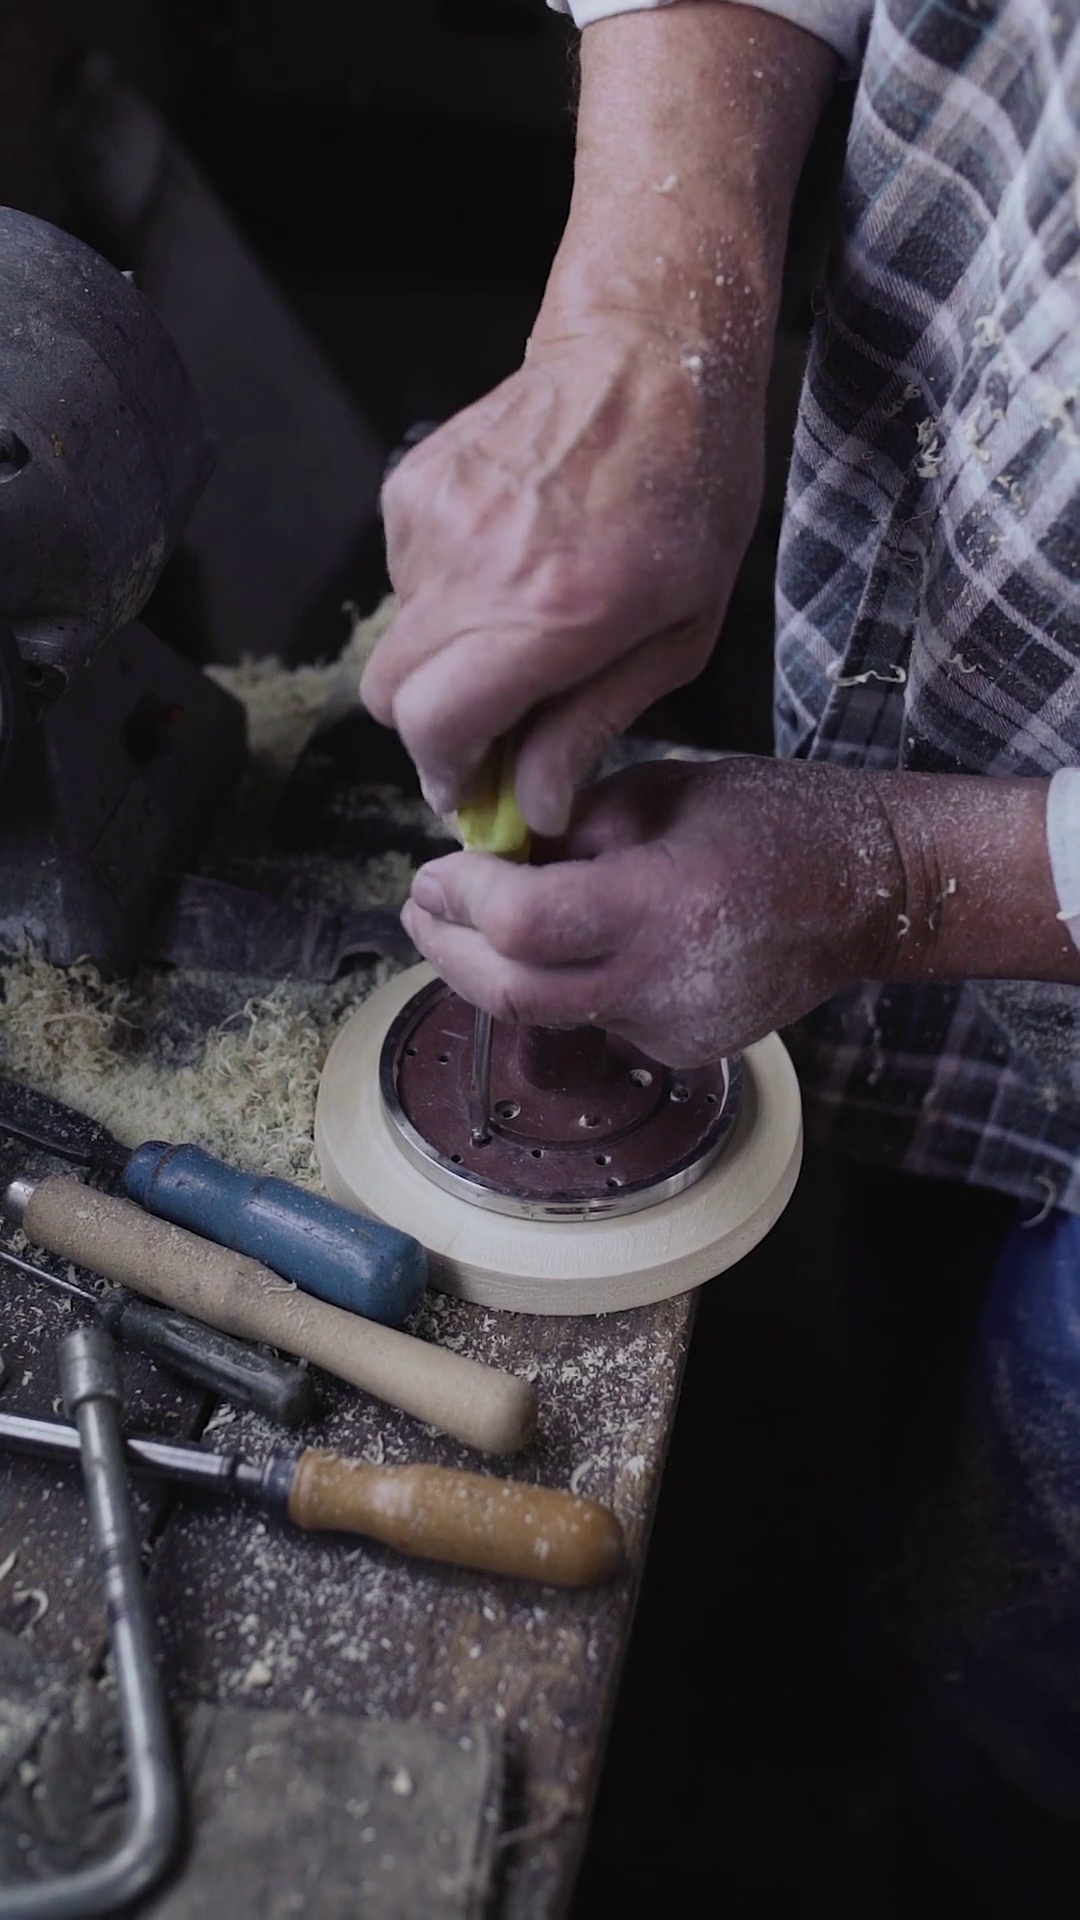screwdriver: (446, 651, 550, 1149)
